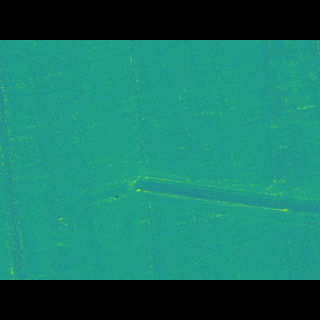Loch: (29, 164, 319, 215)
